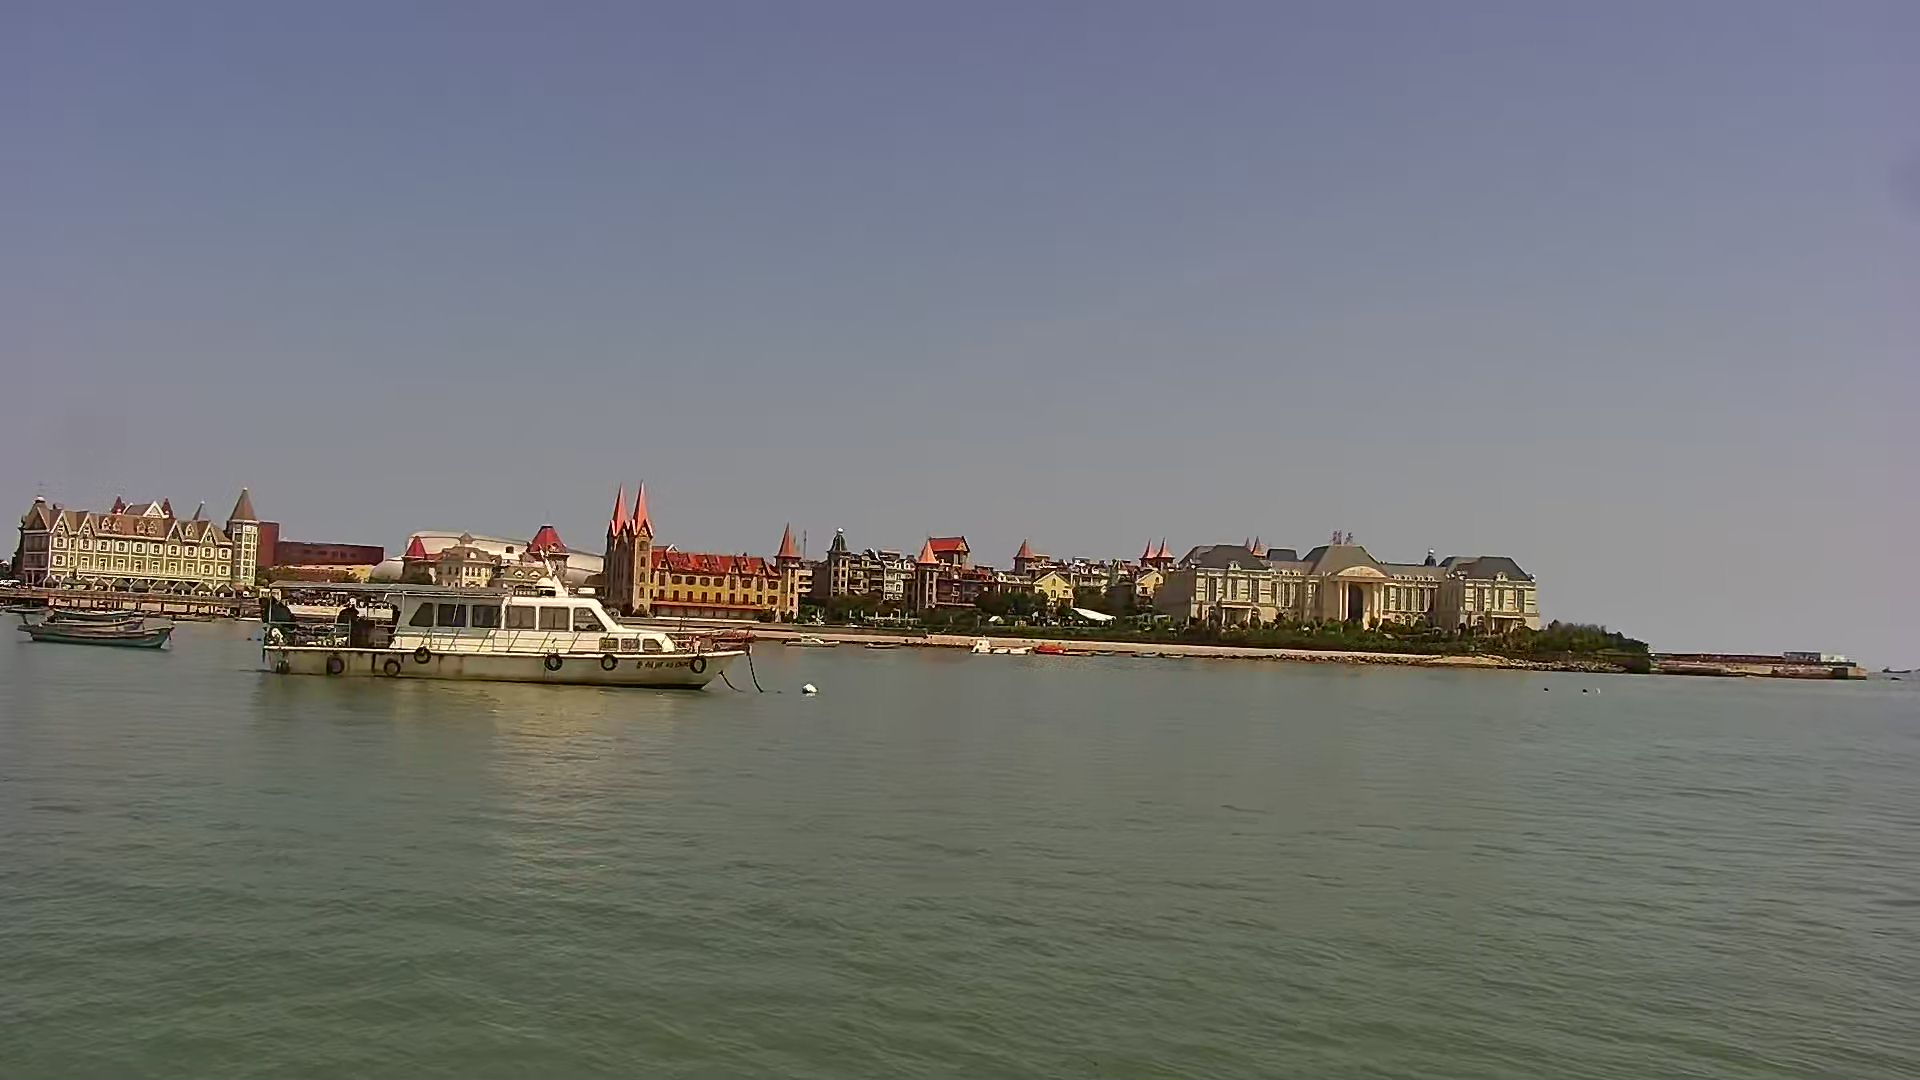ball: (800, 678, 818, 698)
boat: (25, 611, 182, 651)
ship: (258, 567, 744, 694)
